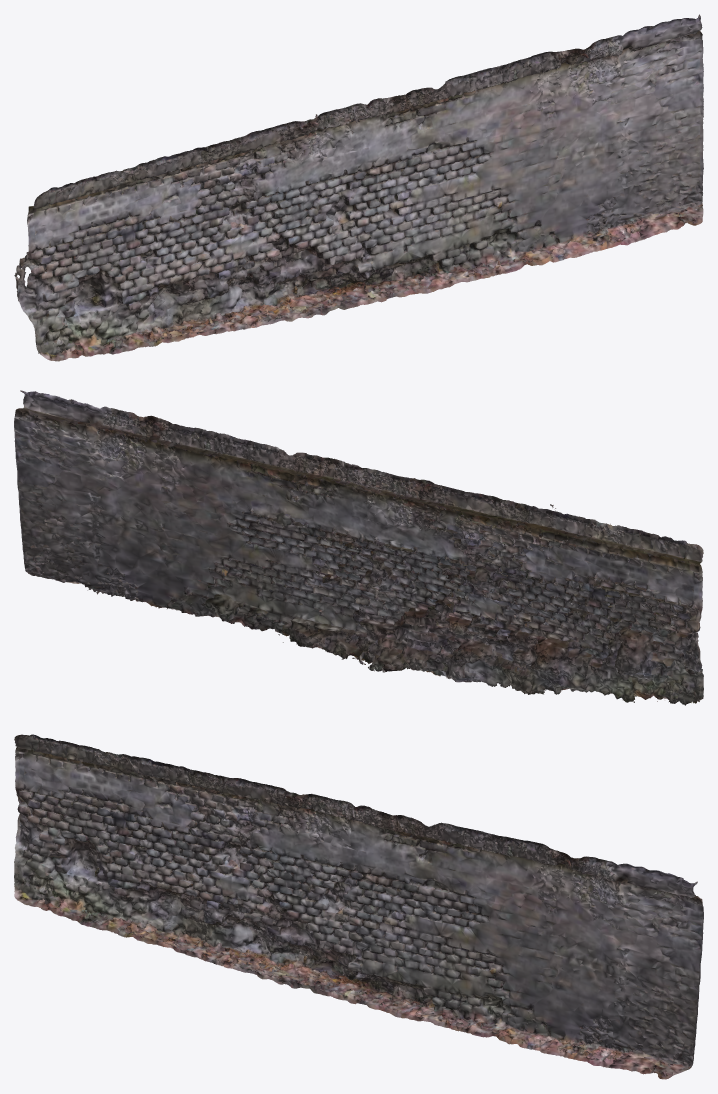
File: brick_wall.glb
3 renders of one model, top to bottom at view 1: azimuth 30°, elevation 25°; view 2: azimuth 150°, elevation 25°; view 3: azimuth 330°, elevation 25°, orthographic.
Visible parts, largest first — view 1: Object_2; view 2: Object_2; view 3: Object_2.
Boxes of the visible parts, <box> form: Object_2: <box>14,14,703,361</box>; Object_2: <box>14,390,703,705</box>; Object_2: <box>14,734,703,1079</box>.
Bounding box in the file's own units: 10.22 × 2.81 × 0.9322.
Materials: 1 (1 with a texture image).
